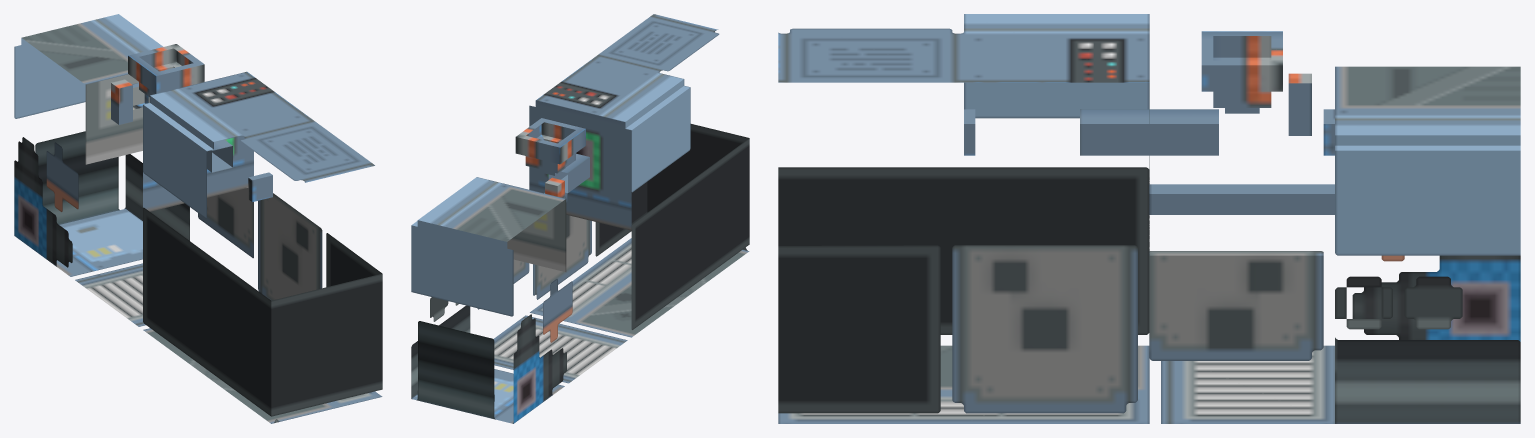
Rendered from injection_molder.obj.
The picture shows the model from 3 angles, left to right: view 1: azimuth 30°, elevation 25°; view 2: azimuth 150°, elevation 25°; view 3: azimuth 270°, elevation 25°; orthographic projection. The views are drawn at different scales.
Size of the model in its own units: 1 by 2 by 4.
